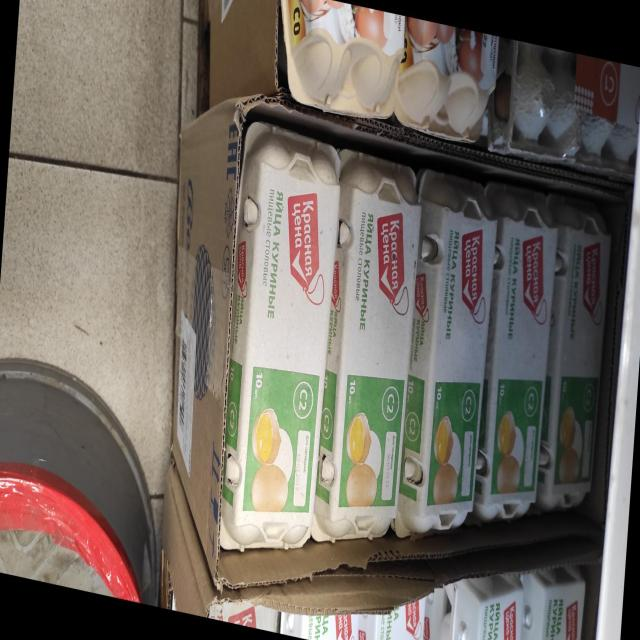organic waste: (216, 122, 341, 571), (314, 149, 422, 555), (397, 170, 500, 553), (476, 188, 559, 532), (534, 200, 614, 524), (272, 0, 406, 129), (396, 17, 499, 149), (357, 584, 426, 640), (203, 591, 280, 632), (280, 602, 360, 640)
